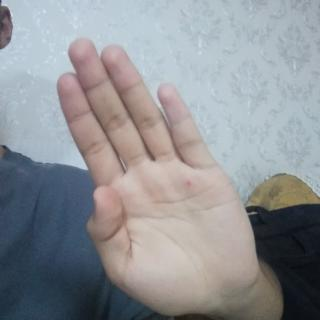SEEN: (46, 33, 267, 320)
